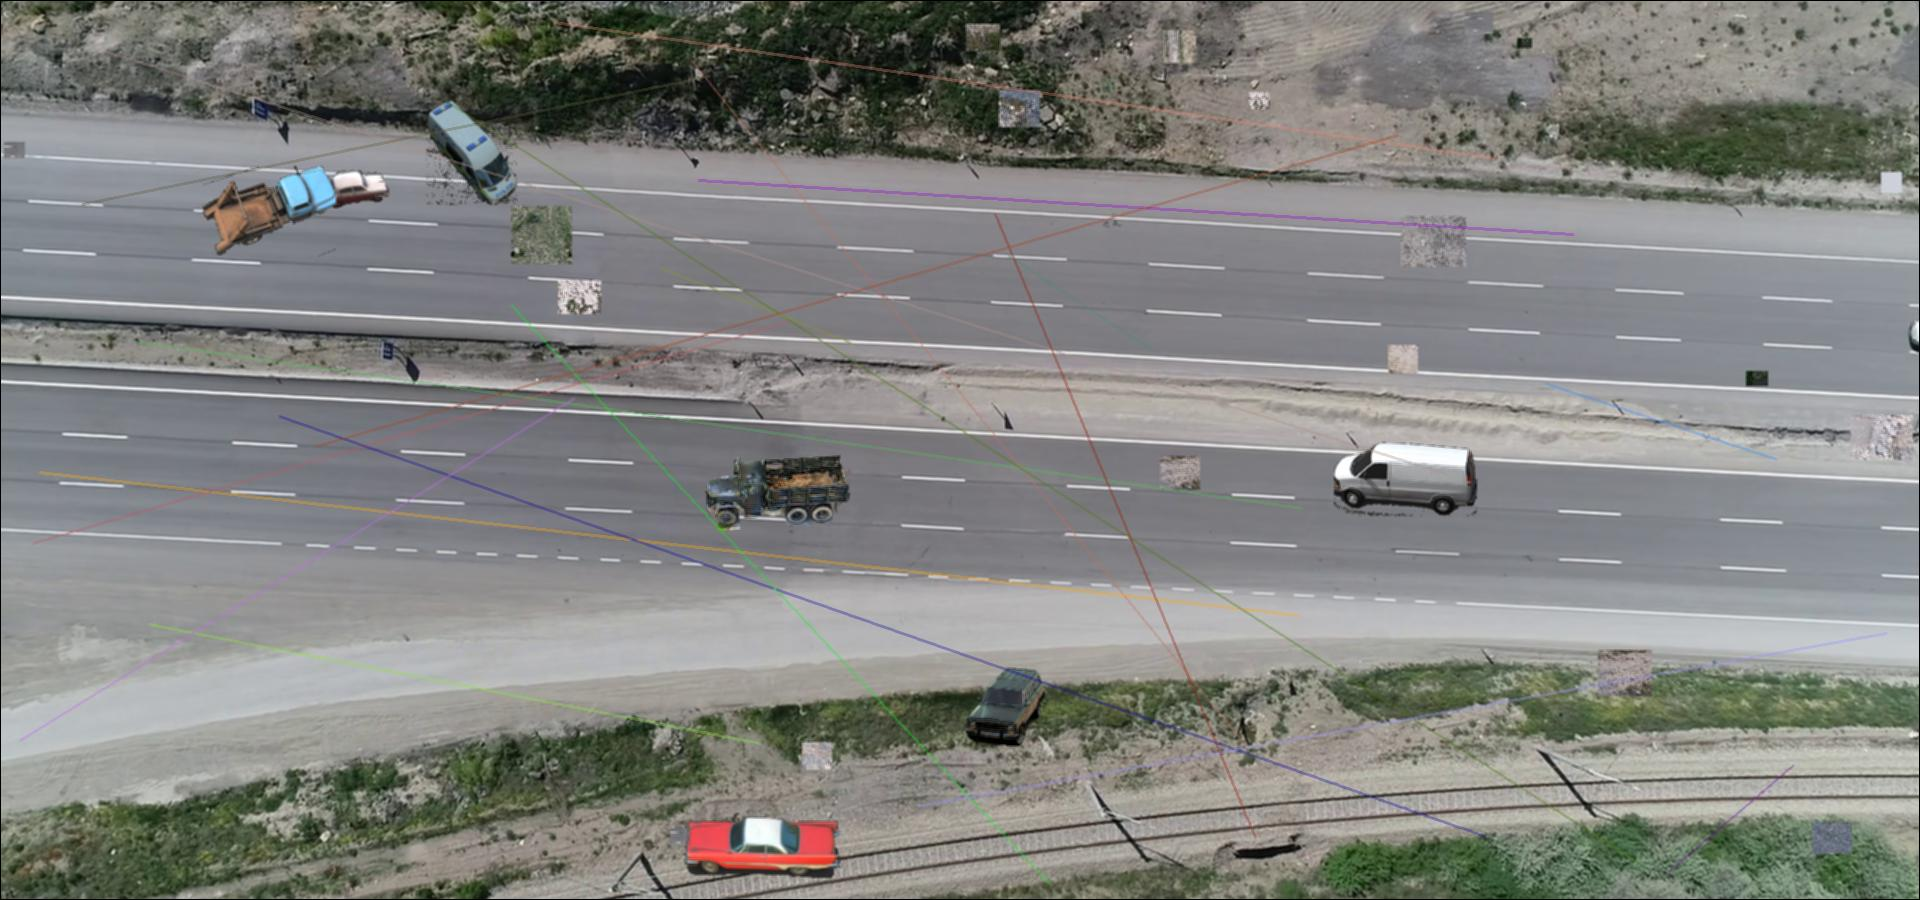arac: (203, 167, 336, 256), (705, 452, 851, 531), (680, 813, 857, 878), (1333, 441, 1477, 516), (426, 100, 517, 204), (964, 667, 1044, 747), (317, 170, 389, 211)
